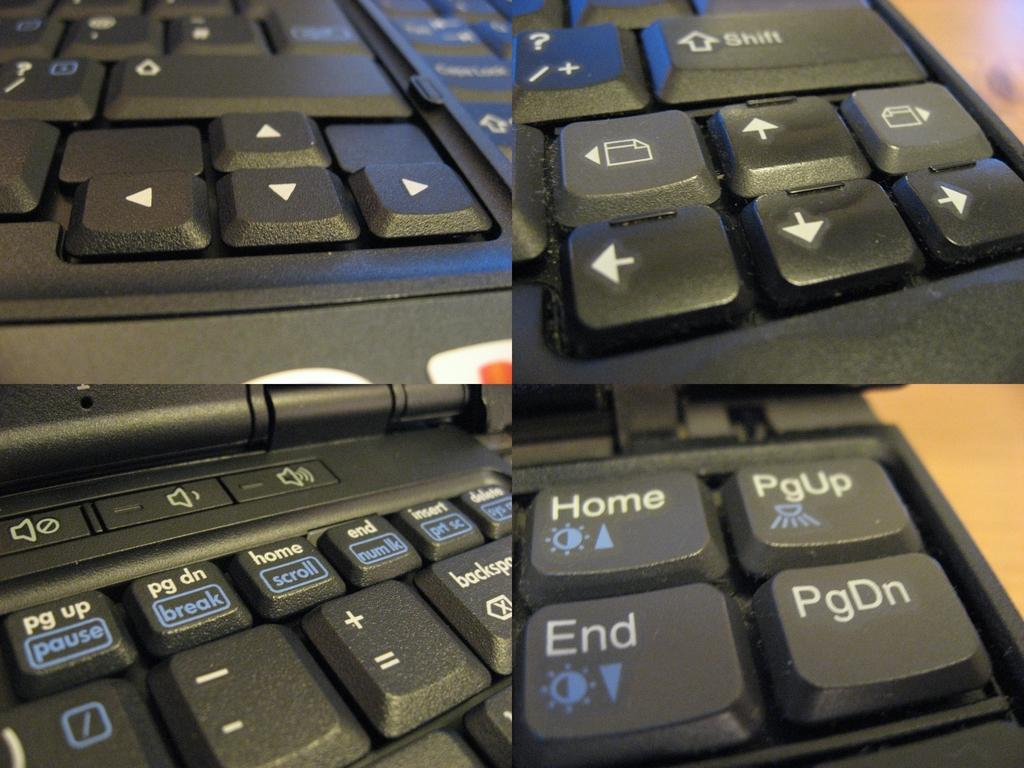Computer-keyboard: (513, 0, 1022, 362), (0, 0, 511, 325), (515, 450, 1007, 767), (0, 476, 514, 765)
